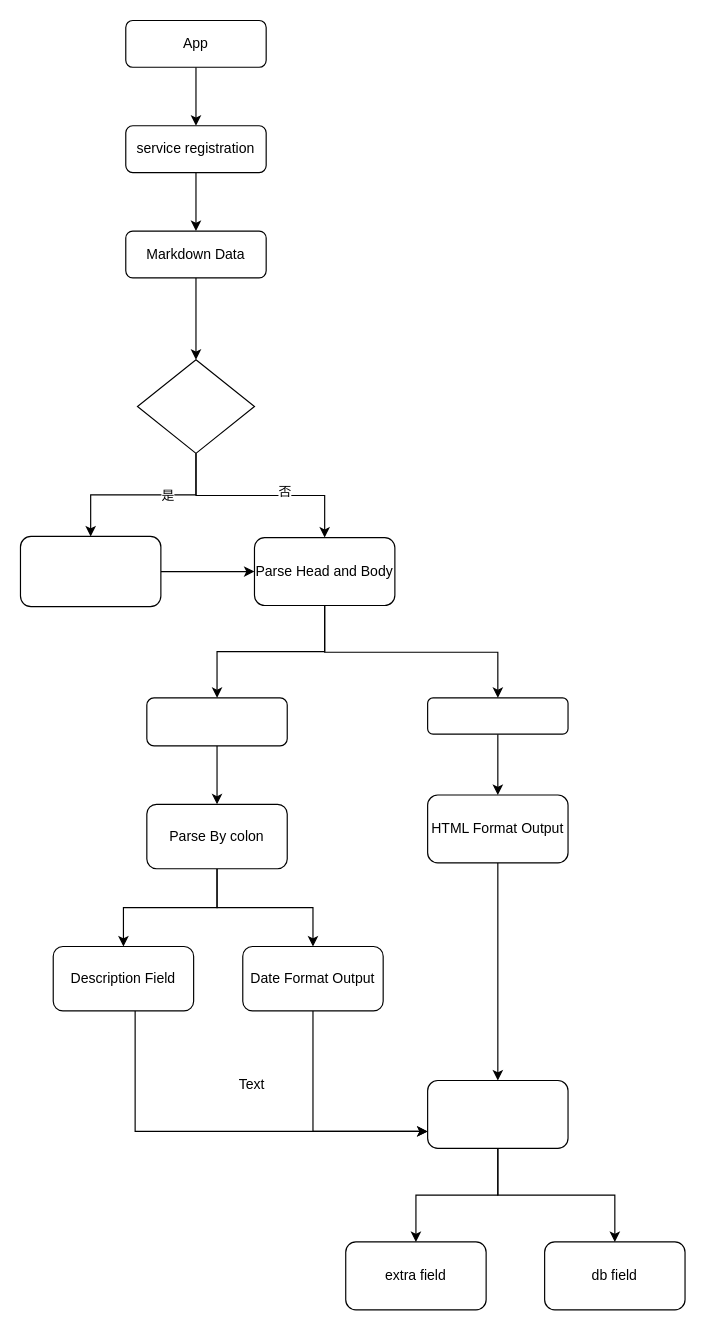
This 706x1330 diagram has some shape labels left out. Each missing label, with the centre of its shape:
"Body" belongs at (497,715).
"File::exists" belongs at (195,406).
"File::get" belongs at (90,571).
"Head" belongs at (216,721).
"Save To Db" belongs at (497,1113).
